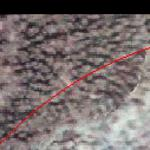alive: (4, 16, 145, 148)
